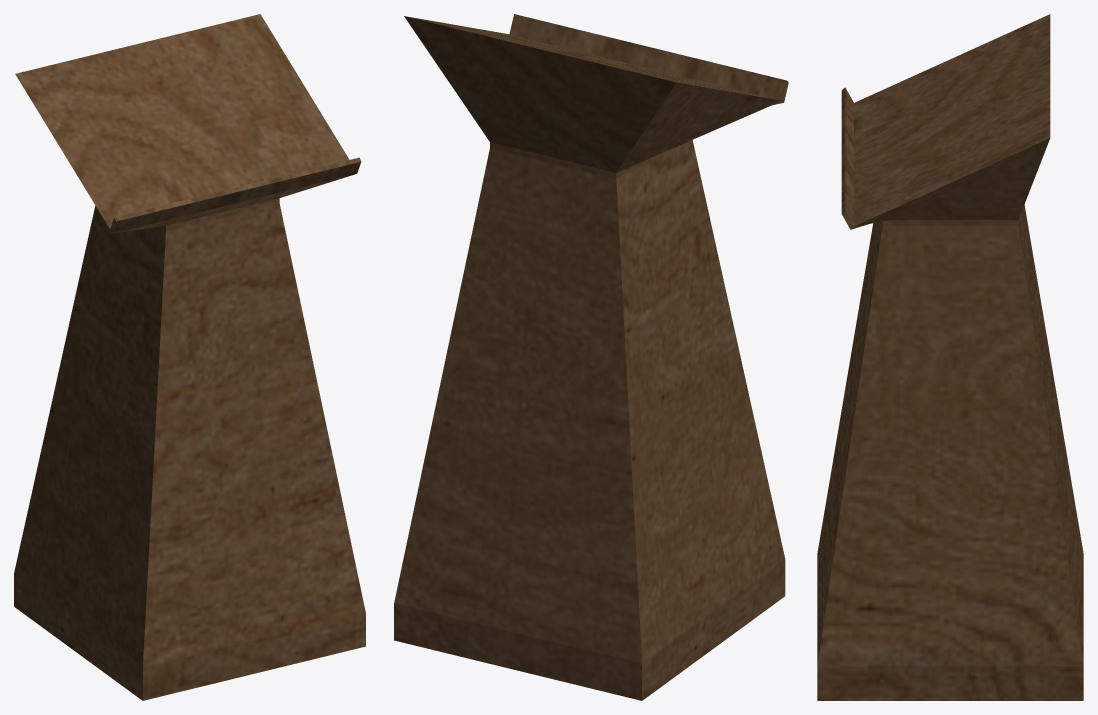
The model's file is podium.fbx.
The picture shows the model from 3 angles, left to right: view 1: azimuth 30°, elevation 25°; view 2: azimuth 150°, elevation 25°; view 3: azimuth 270°, elevation 25°; orthographic projection. The views are drawn at different scales.
Visible parts, largest first — view 1: Cube; view 2: Cube; view 3: Cube.
Part boxes in pixels (box(x1,y1,x2,y2)): Cube: box(14, 14, 365, 700); Cube: box(394, 14, 788, 700); Cube: box(817, 14, 1083, 700).
Bounding box in the file's own units: 52.8 × 113 × 48.
1 material, 1 textured.
